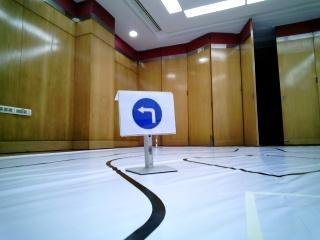left: (125, 94, 172, 132)
